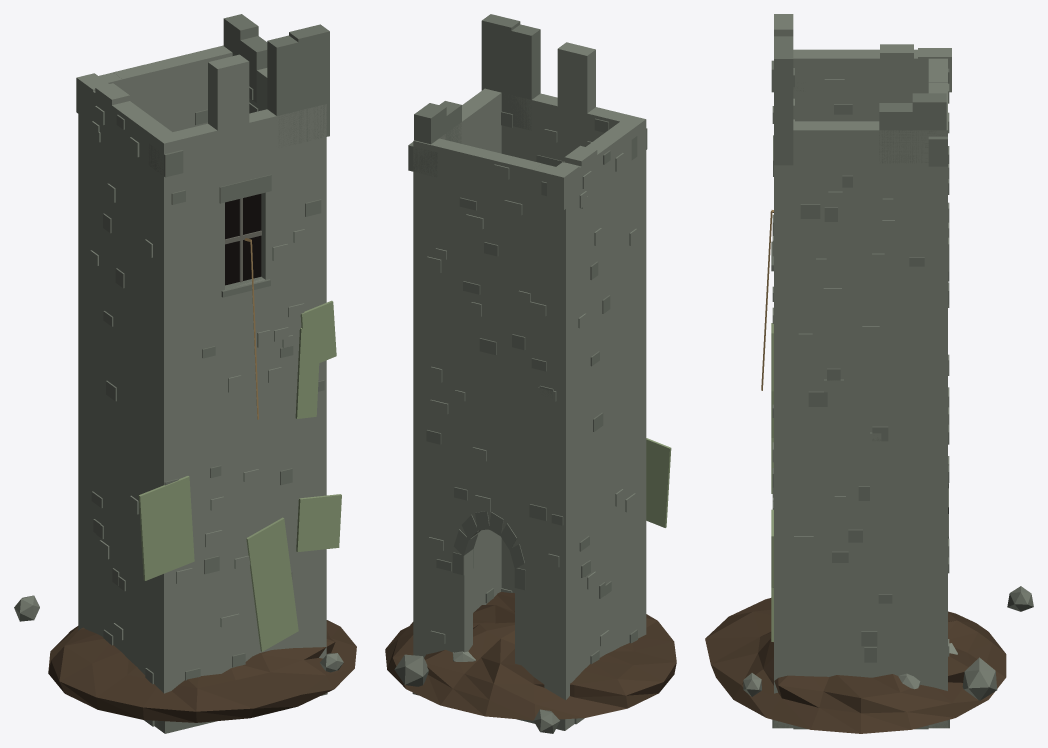
Rendered from greyfen-bell-tower.glb.
3 renders of one model, left to right at view 1: azimuth 30°, elevation 25°; view 2: azimuth 150°, elevation 25°; view 3: azimuth 270°, elevation 25°, orthographic. The views are drawn at different scales.
Visible parts, largest first — view 1: Body_Stone, Body_Peat, Body_Moss, Body_StoneDark, Body_Dark; view 2: Body_Stone, Body_Peat, Body_StoneDark, Body_Moss; view 3: Body_Stone, Body_Peat, Body_StoneDark, Body_Moss.
Boxes of the visible parts, x1,y1,x2,y2 form: Body_Stone: (76,45,326,728); Body_Peat: (48,620,356,722); Body_Moss: (138,300,341,651); Body_StoneDark: (14,14,343,733); Body_Dark: (225,194,261,285); Body_Stone: (413,42,646,729); Body_Peat: (385,592,676,720); Body_StoneDark: (394,14,647,733); Body_Moss: (646,438,671,527); Body_Stone: (772,14,957,728); Body_Peat: (705,598,1006,733); Body_StoneDark: (743,36,1033,729); Body_Moss: (771,323,773,641).
Size of the model in its own units: 4 by 9 by 4.
